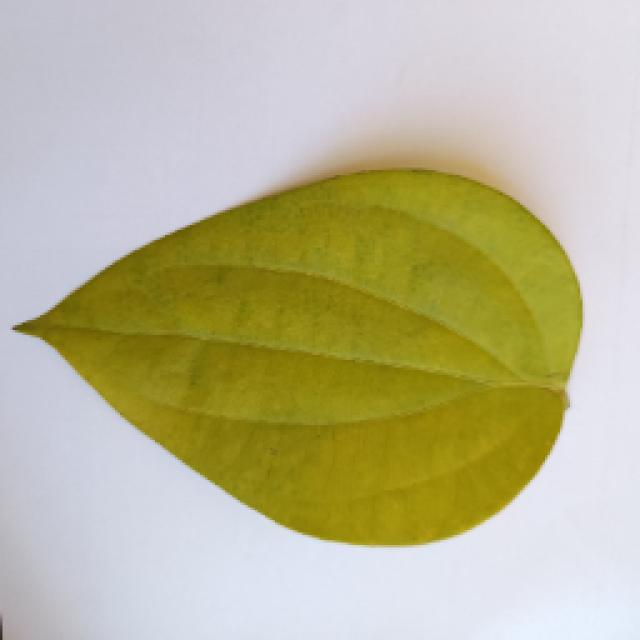slow-decline: (12, 165, 572, 545)
